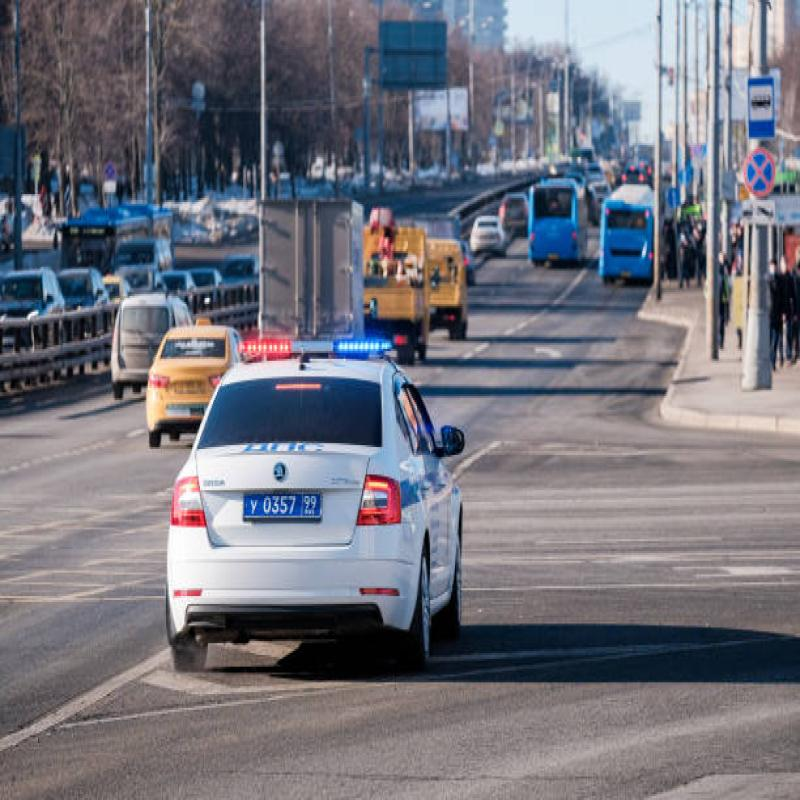AmbulanceSiren: (228, 308, 398, 376)
